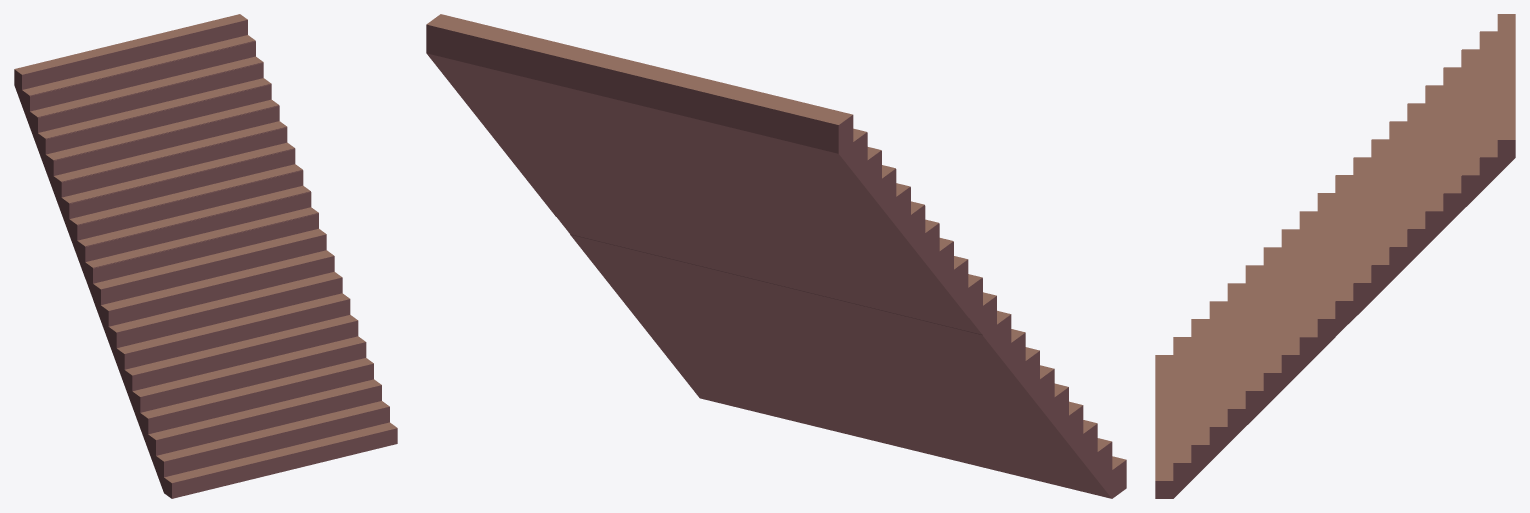
The model's file is Stairs.glb.
3 renders of one model, left to right at view 1: azimuth 30°, elevation 25°; view 2: azimuth 150°, elevation 25°; view 3: azimuth 270°, elevation 25°, orthographic. The views are drawn at different scales.
Visible parts, largest first — view 1: Stairs3.001; view 2: Stairs3.001; view 3: Stairs3.001.
Part boxes in pixels (box(x1,y1,x2,y2)): Stairs3.001: box(14, 14, 397, 498); Stairs3.001: box(426, 14, 1126, 498); Stairs3.001: box(1155, 14, 1515, 498).
Bounding box in the file's own units: 3 × 3.99 × 3.63.
Materials: 6 (6 with a texture image).
